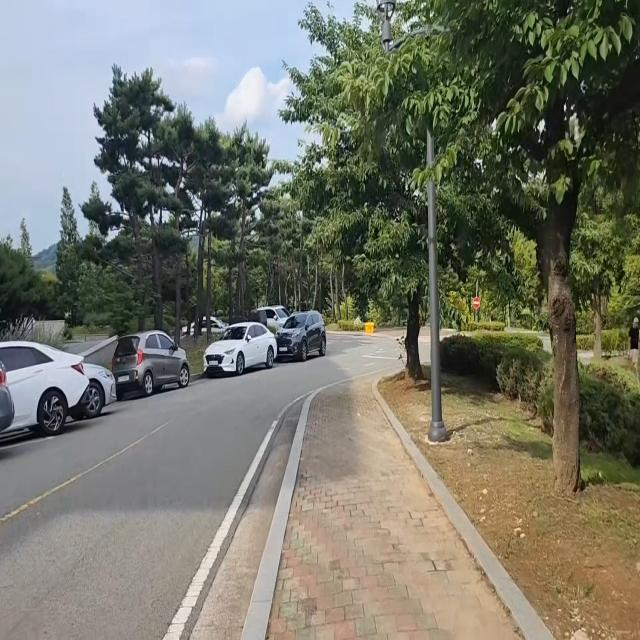obstacle: (0, 336, 117, 451), (424, 120, 451, 441), (110, 325, 191, 406), (200, 316, 281, 383), (273, 304, 328, 365)
road: (0, 332, 400, 640)
sidewalk: (240, 368, 553, 640)
